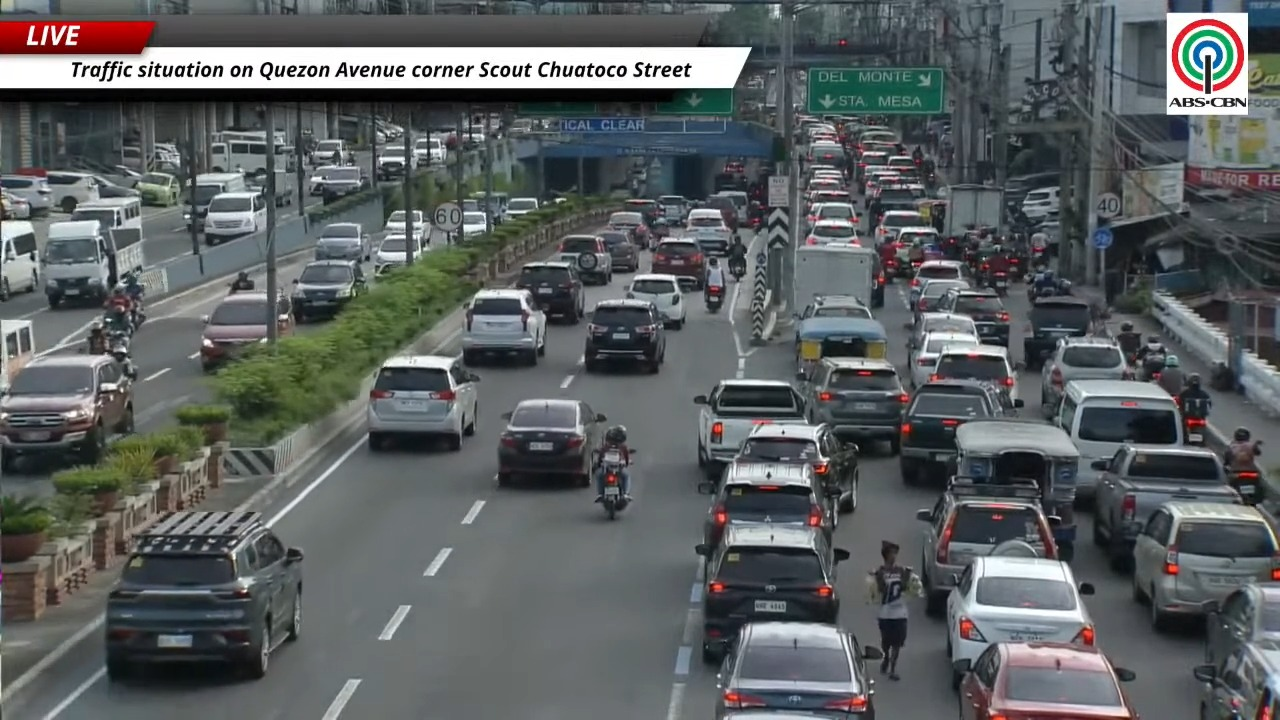bus: (210, 131, 266, 174)
car: (104, 511, 302, 680), (695, 524, 849, 663), (916, 479, 1056, 615), (1133, 501, 1279, 631), (947, 555, 1094, 666), (715, 622, 882, 719), (0, 354, 135, 472), (953, 642, 1138, 719), (698, 458, 837, 545), (899, 380, 1005, 484), (366, 355, 479, 451), (739, 424, 858, 511), (802, 358, 909, 453), (497, 398, 606, 486), (199, 291, 294, 371), (1192, 640, 1279, 719), (1041, 337, 1132, 409), (461, 288, 546, 365), (583, 299, 665, 373), (1206, 583, 1279, 663), (930, 344, 1021, 400), (1023, 296, 1092, 368), (291, 260, 367, 323), (936, 288, 1010, 347), (515, 261, 584, 323), (913, 379, 1023, 416), (909, 331, 979, 387), (626, 273, 686, 329), (555, 234, 612, 285), (651, 238, 705, 290), (908, 313, 975, 354), (909, 260, 968, 305), (0, 174, 53, 216), (685, 208, 732, 255), (314, 222, 372, 260), (912, 280, 968, 314), (797, 295, 873, 320), (373, 234, 423, 271), (319, 166, 370, 202), (600, 230, 639, 271), (135, 172, 181, 206), (384, 210, 430, 244), (606, 212, 648, 246), (805, 220, 860, 245), (807, 202, 859, 226), (377, 150, 415, 181), (92, 175, 138, 198), (864, 167, 900, 196), (896, 226, 939, 247), (0, 191, 31, 219), (809, 183, 852, 203), (458, 211, 489, 238), (806, 177, 843, 196), (506, 197, 538, 218)
motorcycle: (599, 449, 627, 519), (106, 331, 137, 380), (1228, 471, 1260, 505), (107, 330, 129, 363), (1140, 353, 1165, 381), (1184, 417, 1206, 446), (989, 271, 1008, 296), (706, 285, 723, 312), (728, 258, 747, 282), (228, 280, 254, 294)
truck: (1091, 445, 1241, 569), (694, 379, 806, 481), (42, 221, 144, 307), (794, 245, 878, 311), (943, 184, 1005, 236), (0, 319, 34, 392), (270, 170, 296, 207)
